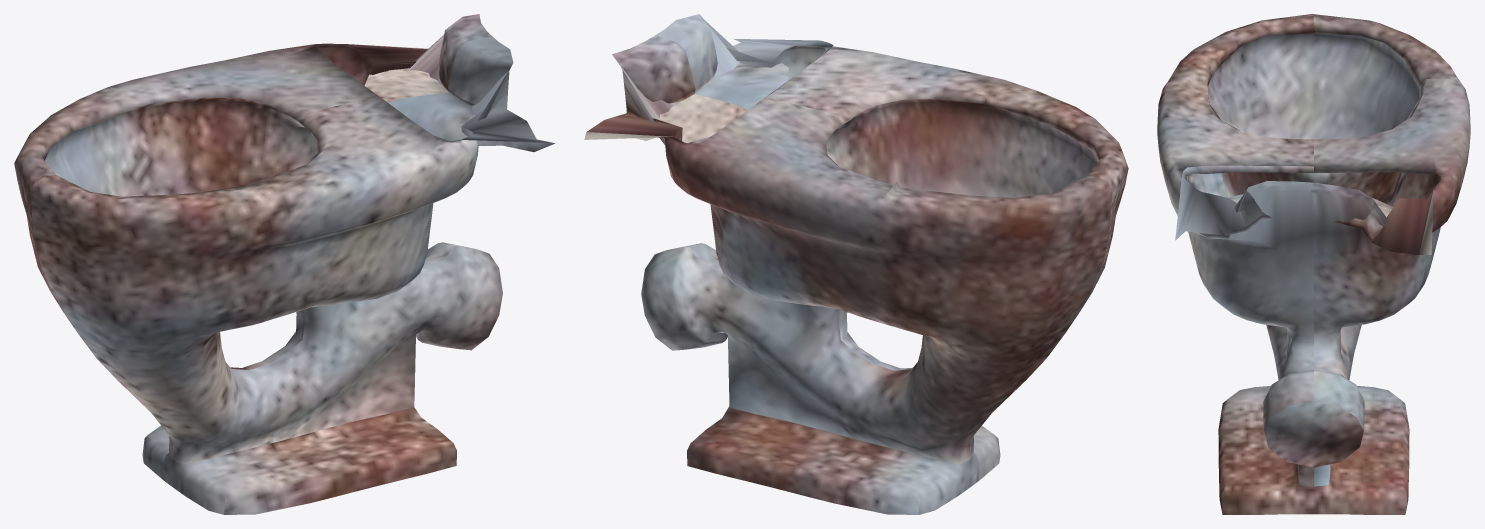
File: toilet.glb
3 views of the same model, side by side, from view 1: azimuth 30°, elevation 25°; view 2: azimuth 150°, elevation 25°; view 3: azimuth 270°, elevation 25° (orthographic). The views are drawn at different scales.
Parts seen in each view (by area): view 1: RetopoGroup1; view 2: RetopoGroup1; view 3: RetopoGroup1.
Boxes of the visible parts, x1,y1,x2,y2 form: RetopoGroup1: [14, 14, 554, 514]; RetopoGroup1: [584, 14, 1128, 514]; RetopoGroup1: [1157, 14, 1470, 514].
Size of the model in its own units: 0.1662 by 0.1259 by 0.099.
1 material, 1 textured.
